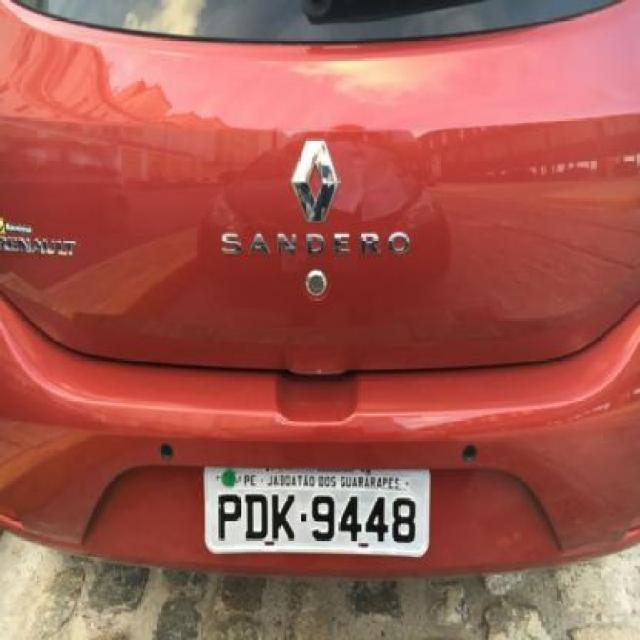old_plate: (197, 459, 436, 561)
